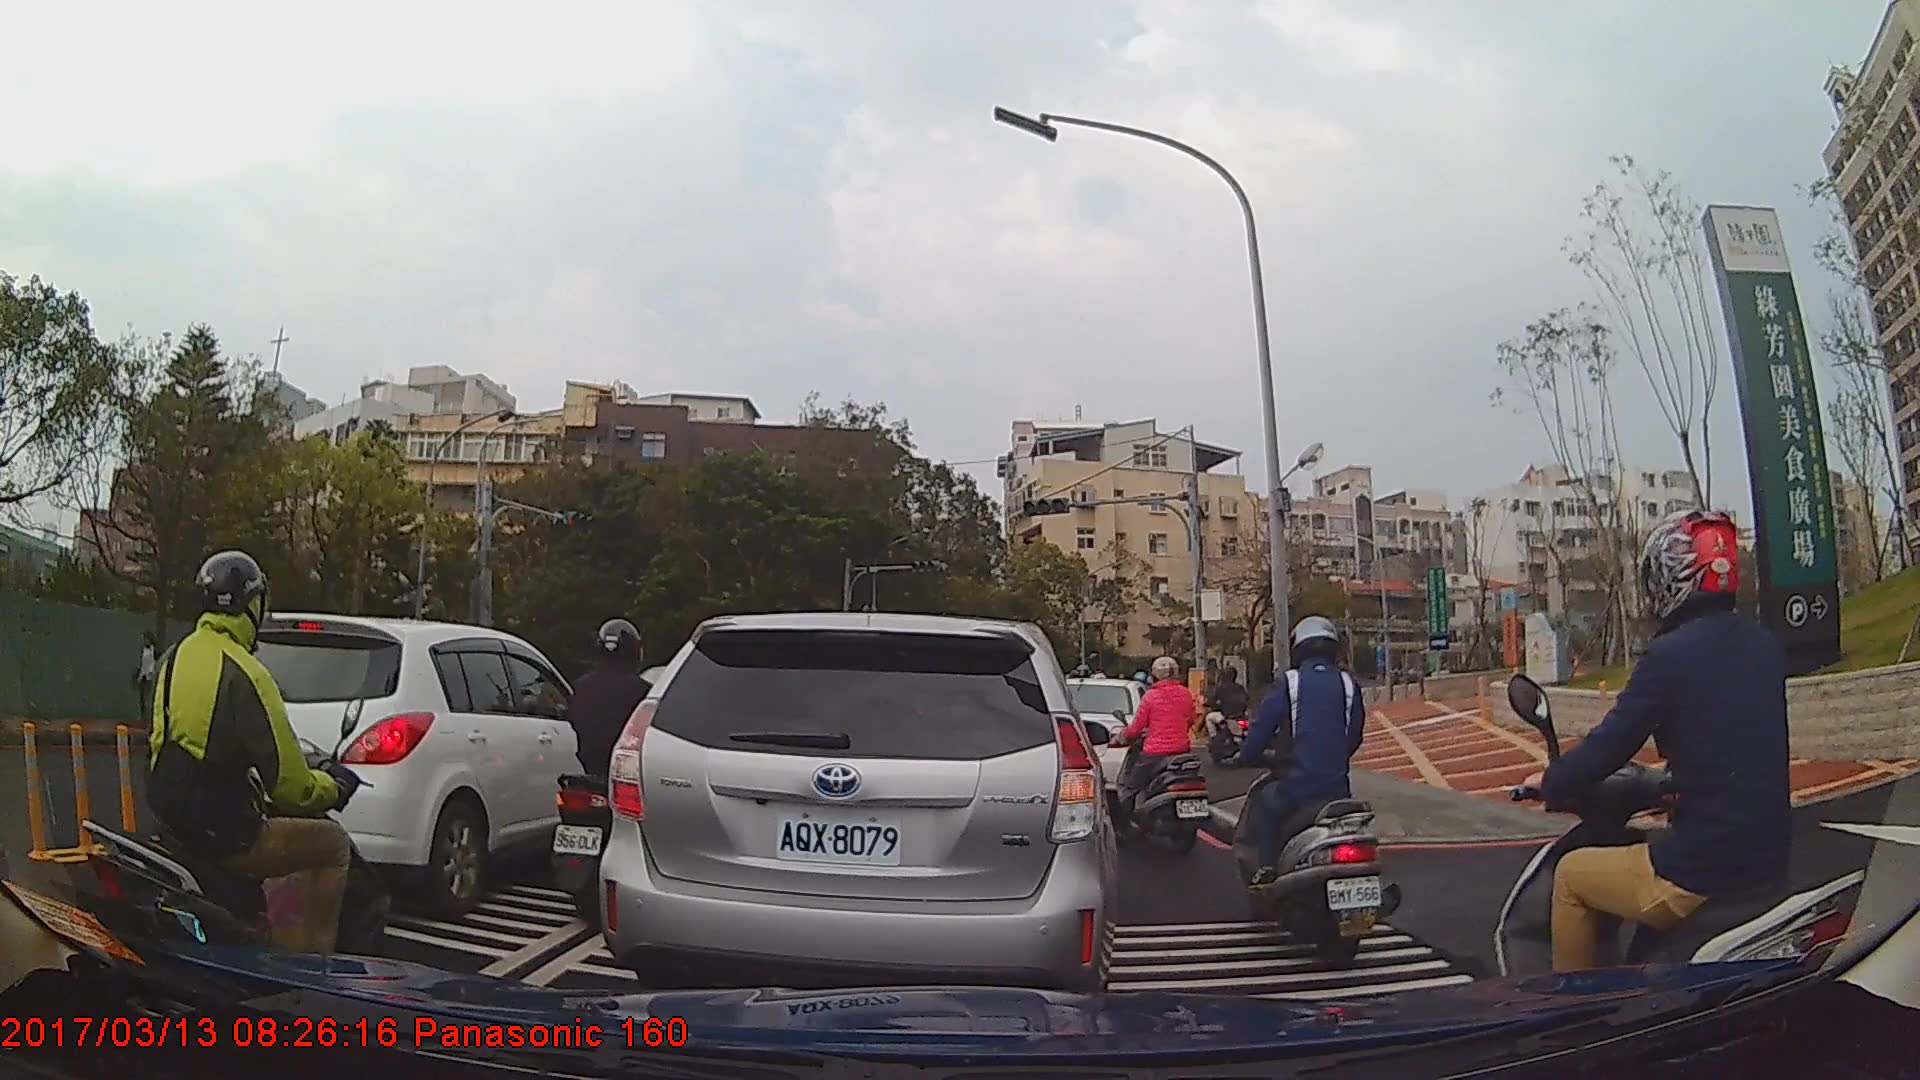pedestrian: (137, 632, 167, 720)
rider: (1496, 501, 1870, 1059), (83, 550, 397, 1034), (1224, 615, 1388, 961), (553, 619, 697, 933), (1106, 653, 1215, 863), (1206, 664, 1253, 764)
vehicle: (597, 611, 1119, 996), (177, 612, 627, 919)
